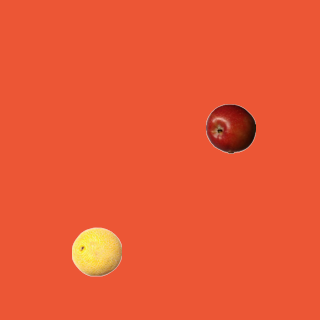Apple Braeburn: (205, 103, 255, 153)
Cantaloupe 1: (71, 226, 121, 276)
